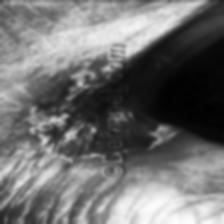Toxin: (32, 62, 102, 166), (124, 53, 176, 153)
